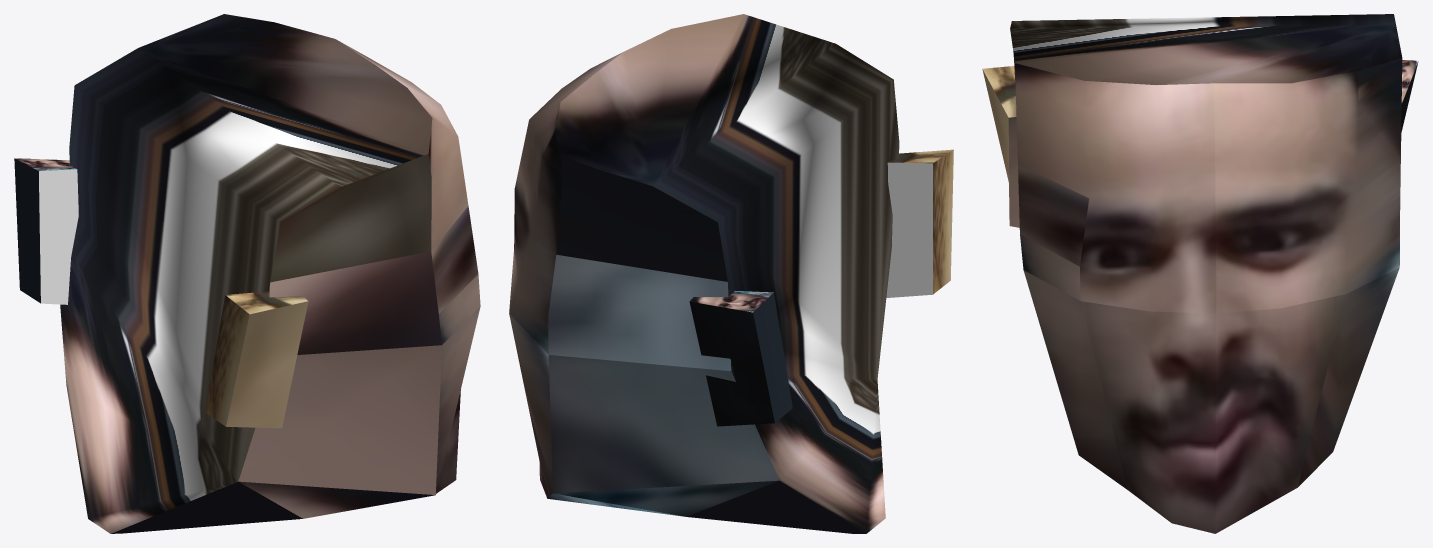
Rendered from arpit.fbx.
The picture shows the model from 3 angles, left to right: view 1: azimuth 30°, elevation 25°; view 2: azimuth 150°, elevation 25°; view 3: azimuth 270°, elevation 25°; orthographic projection.
Parts seen in each view (by area): view 1: Cylinder; view 2: Cylinder; view 3: Cylinder.
Boxes of the visible parts, bbox=[...] form: Cylinder: bbox=[14, 14, 480, 533]; Cylinder: bbox=[509, 14, 953, 533]; Cylinder: bbox=[982, 14, 1418, 533].
Bounding box in the file's own units: 61.33 × 72.49 × 67.79.
1 material, 1 textured.
